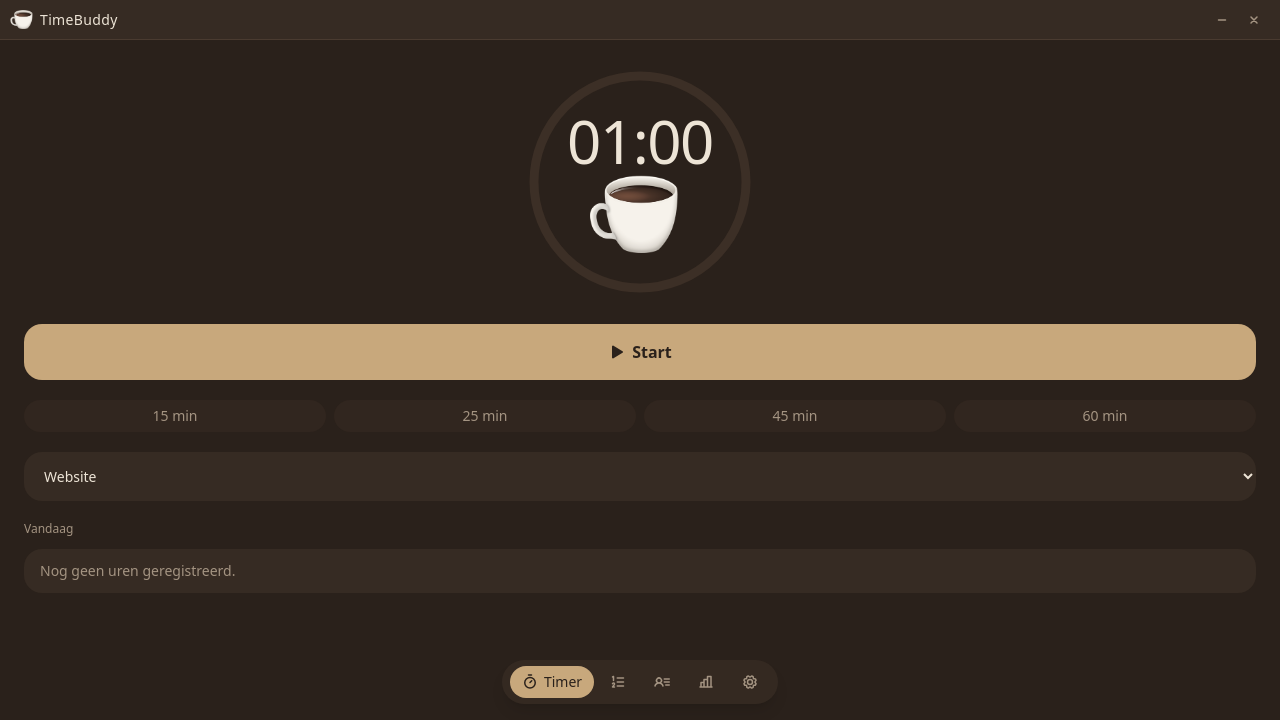
walking away from a running block and coming back › shows what is left of the block, not its nominal length again
The width and height of the screenshot is (1280, 720).
Step 1. Click the button "Start" → (640, 352), box [24, 324, 1256, 380]
Wait 20000 ms
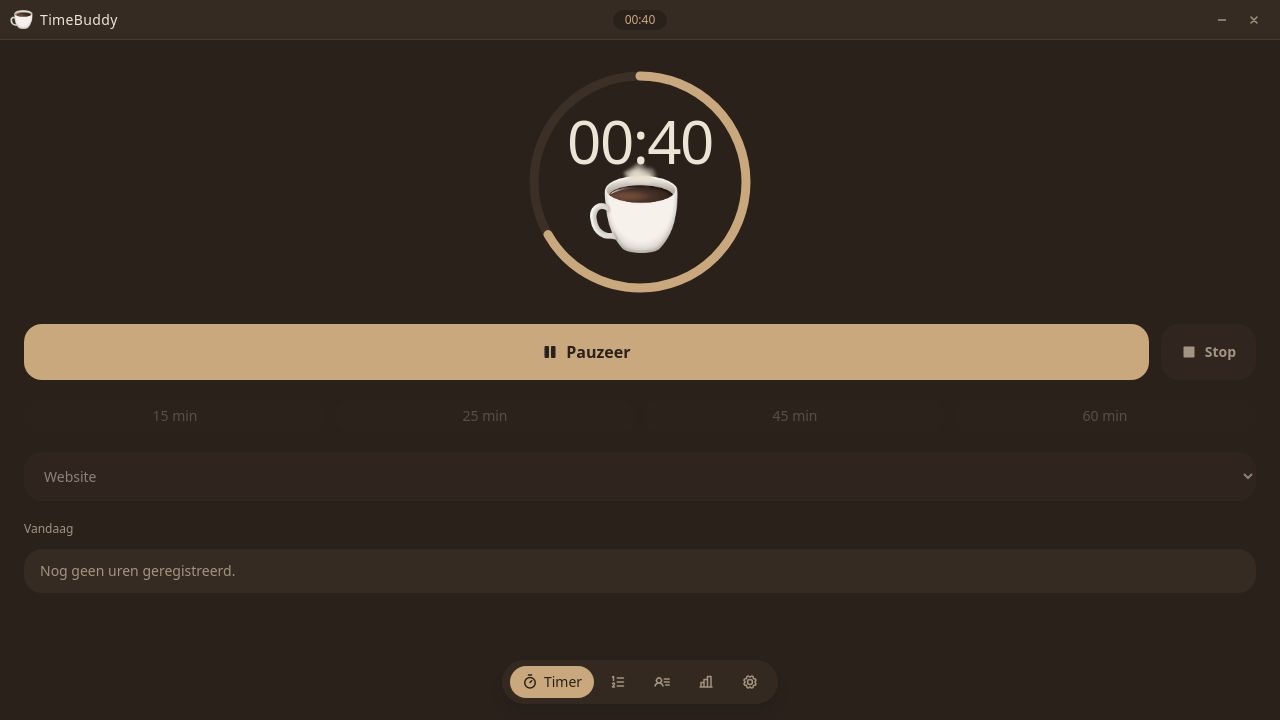
expect the button "Stop" is shown: met, box [1161, 324, 1256, 380]
Step 2. Click the tab named "Klanten" → (662, 682), box [654, 674, 670, 690]
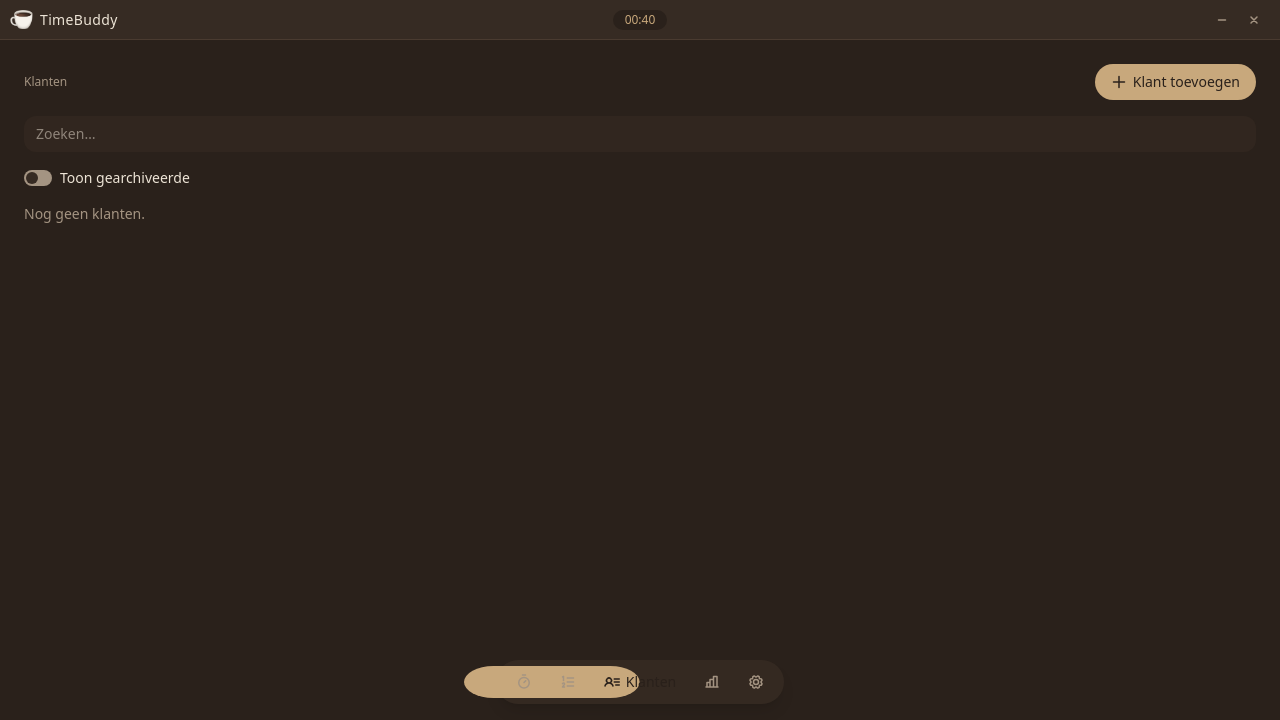
expect the heading "Vandaag" is gone: met
Step 3. Click the tab named "Timer" → (524, 682), box [516, 674, 532, 690]
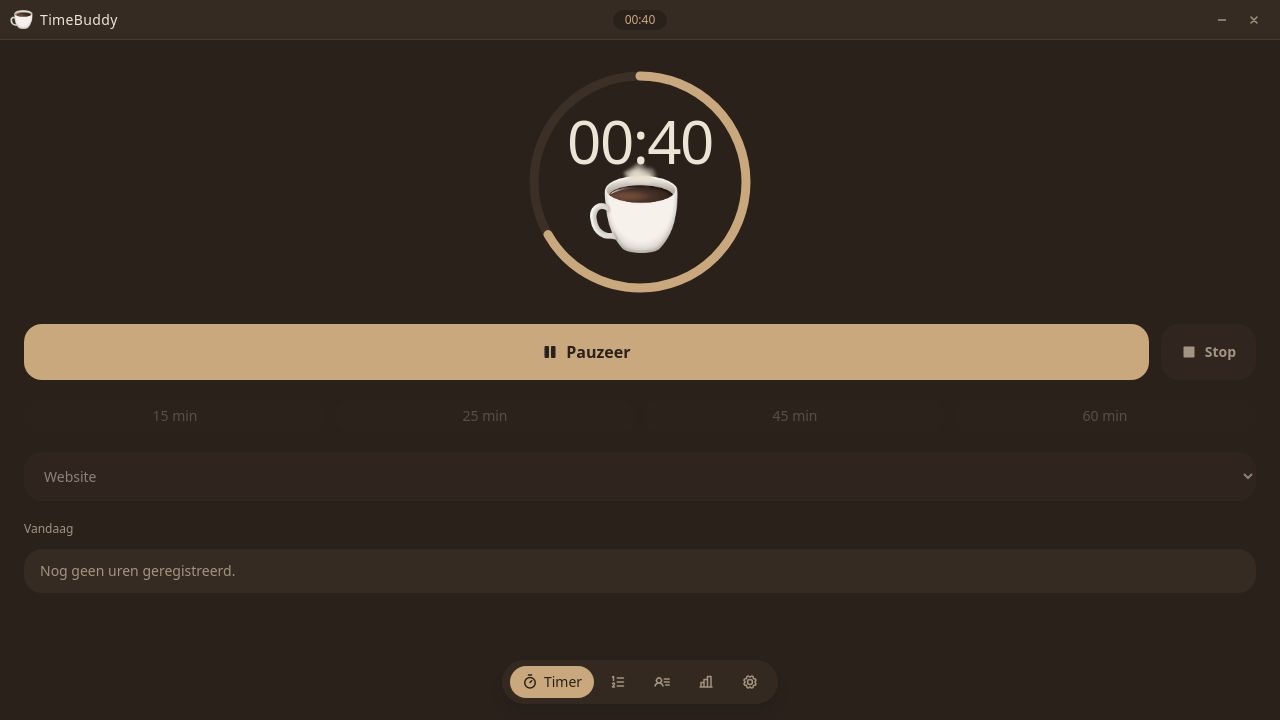
expect the text "01:00" is not shown: met
expect the heading "Vandaag" is shown: met, box [24, 520, 73, 537]
